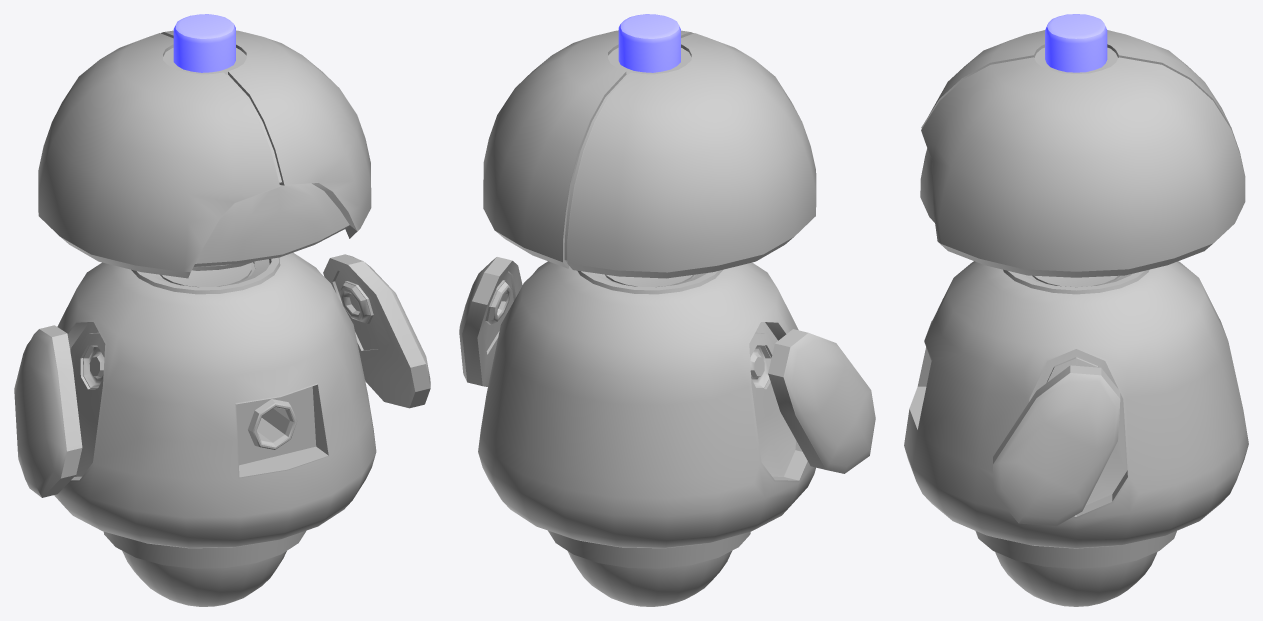
Rendered from Ro3ot_Gentil_scale.fbx.
3 renders of one model, left to right at view 1: azimuth 30°, elevation 25°; view 2: azimuth 150°, elevation 25°; view 3: azimuth 270°, elevation 25°, orthographic.
Visible parts, largest first — view 1: Gentil; view 2: Gentil; view 3: Gentil.
Boxes of the visible parts, x1,y1,x2,y2 form: Gentil: (14, 14, 430, 606); Gentil: (459, 14, 875, 606); Gentil: (904, 14, 1248, 606).
Size of the model in its own units: 76.85 by 109 by 59.13.
